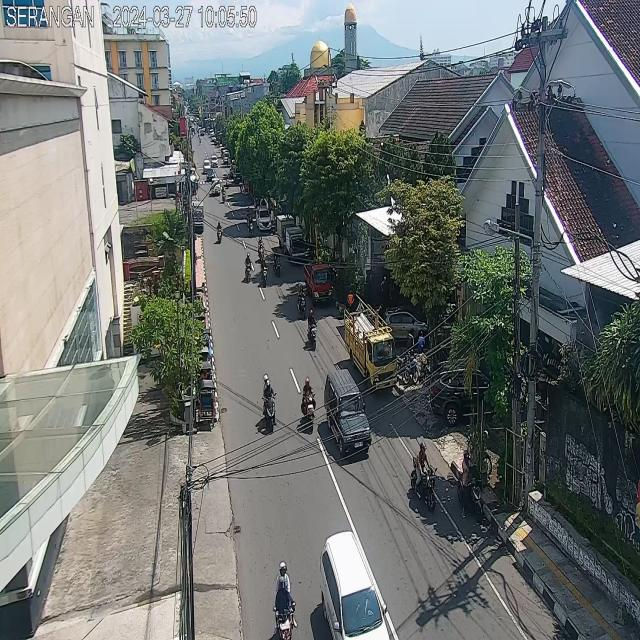car: (320, 529, 390, 640), (323, 368, 372, 458), (256, 206, 272, 232), (207, 168, 214, 182), (203, 159, 210, 173), (211, 155, 218, 167)
motorcycle: (272, 558, 298, 640), (410, 441, 435, 514), (458, 453, 484, 522), (300, 376, 316, 434), (262, 374, 276, 434), (308, 308, 317, 352), (297, 284, 307, 320), (272, 248, 282, 278), (244, 253, 253, 284), (260, 257, 268, 287), (257, 235, 265, 260), (215, 220, 222, 243), (245, 206, 252, 224), (248, 216, 254, 236), (221, 184, 226, 205), (225, 172, 230, 190)
truck: (346, 305, 396, 391), (304, 262, 334, 306), (286, 228, 306, 264), (277, 215, 295, 252), (211, 179, 220, 196)
